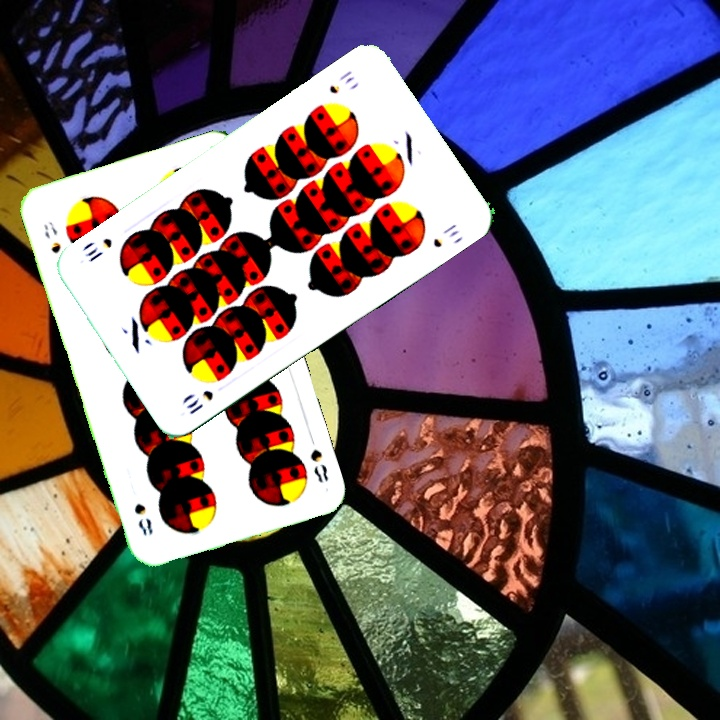S10: (182, 386, 216, 417), (325, 66, 357, 97)
S8: (305, 429, 331, 485), (39, 217, 64, 257)
